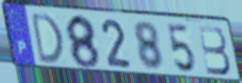2: (100, 17, 134, 71)
5: (165, 22, 197, 75)
8: (64, 13, 103, 71), (133, 19, 166, 73)
B: (196, 24, 233, 77)
D: (29, 11, 65, 66)
